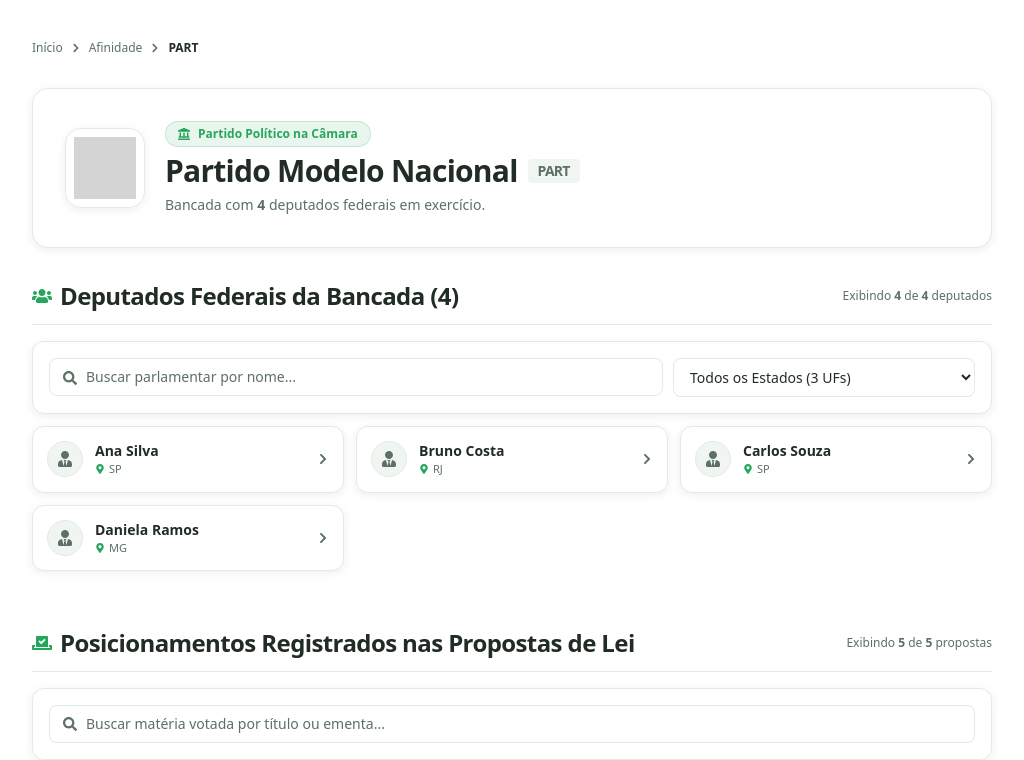
it: PartyDetailsClient - Bancada e Proposições › filtra deputados da bancada por busca textual de nome
Type "Daniela" into the field with placeholder "Buscar parlamentar por nome...". click: (356, 377)
box: left=49, top=358, right=663, bottom=396
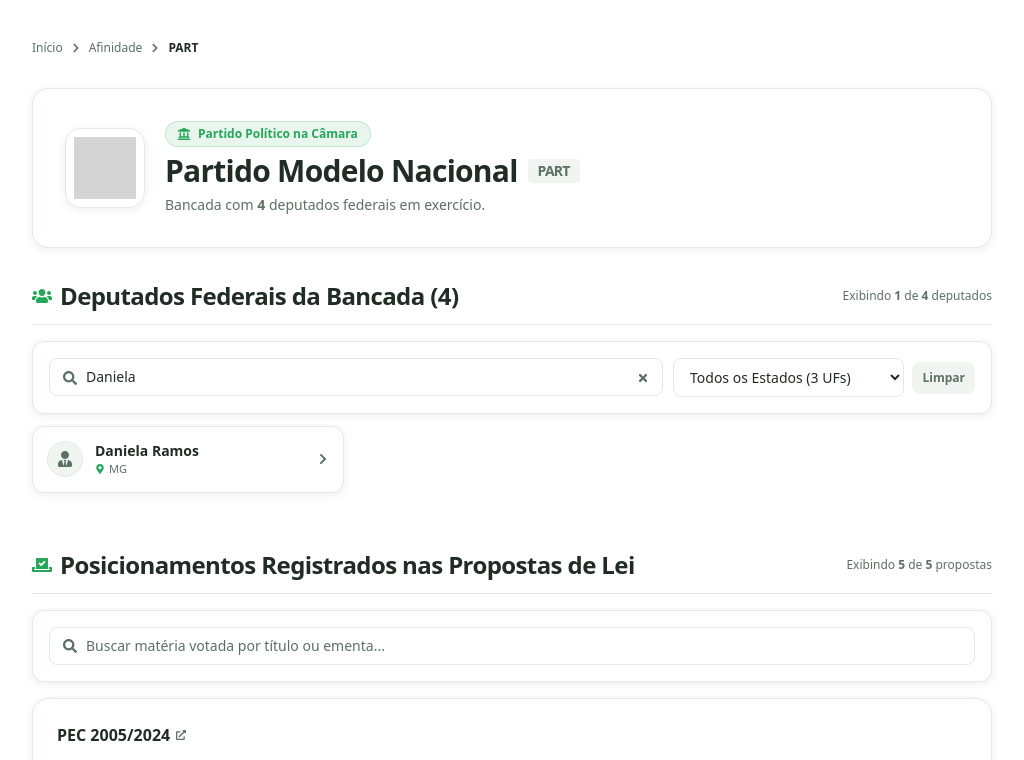
Check: the heading "Daniela Ramos" is shown, box left=95, top=441, right=199, bottom=461
Check: the link "Ana Silva" is gone
Check: the link "Bruno Costa" is gone
